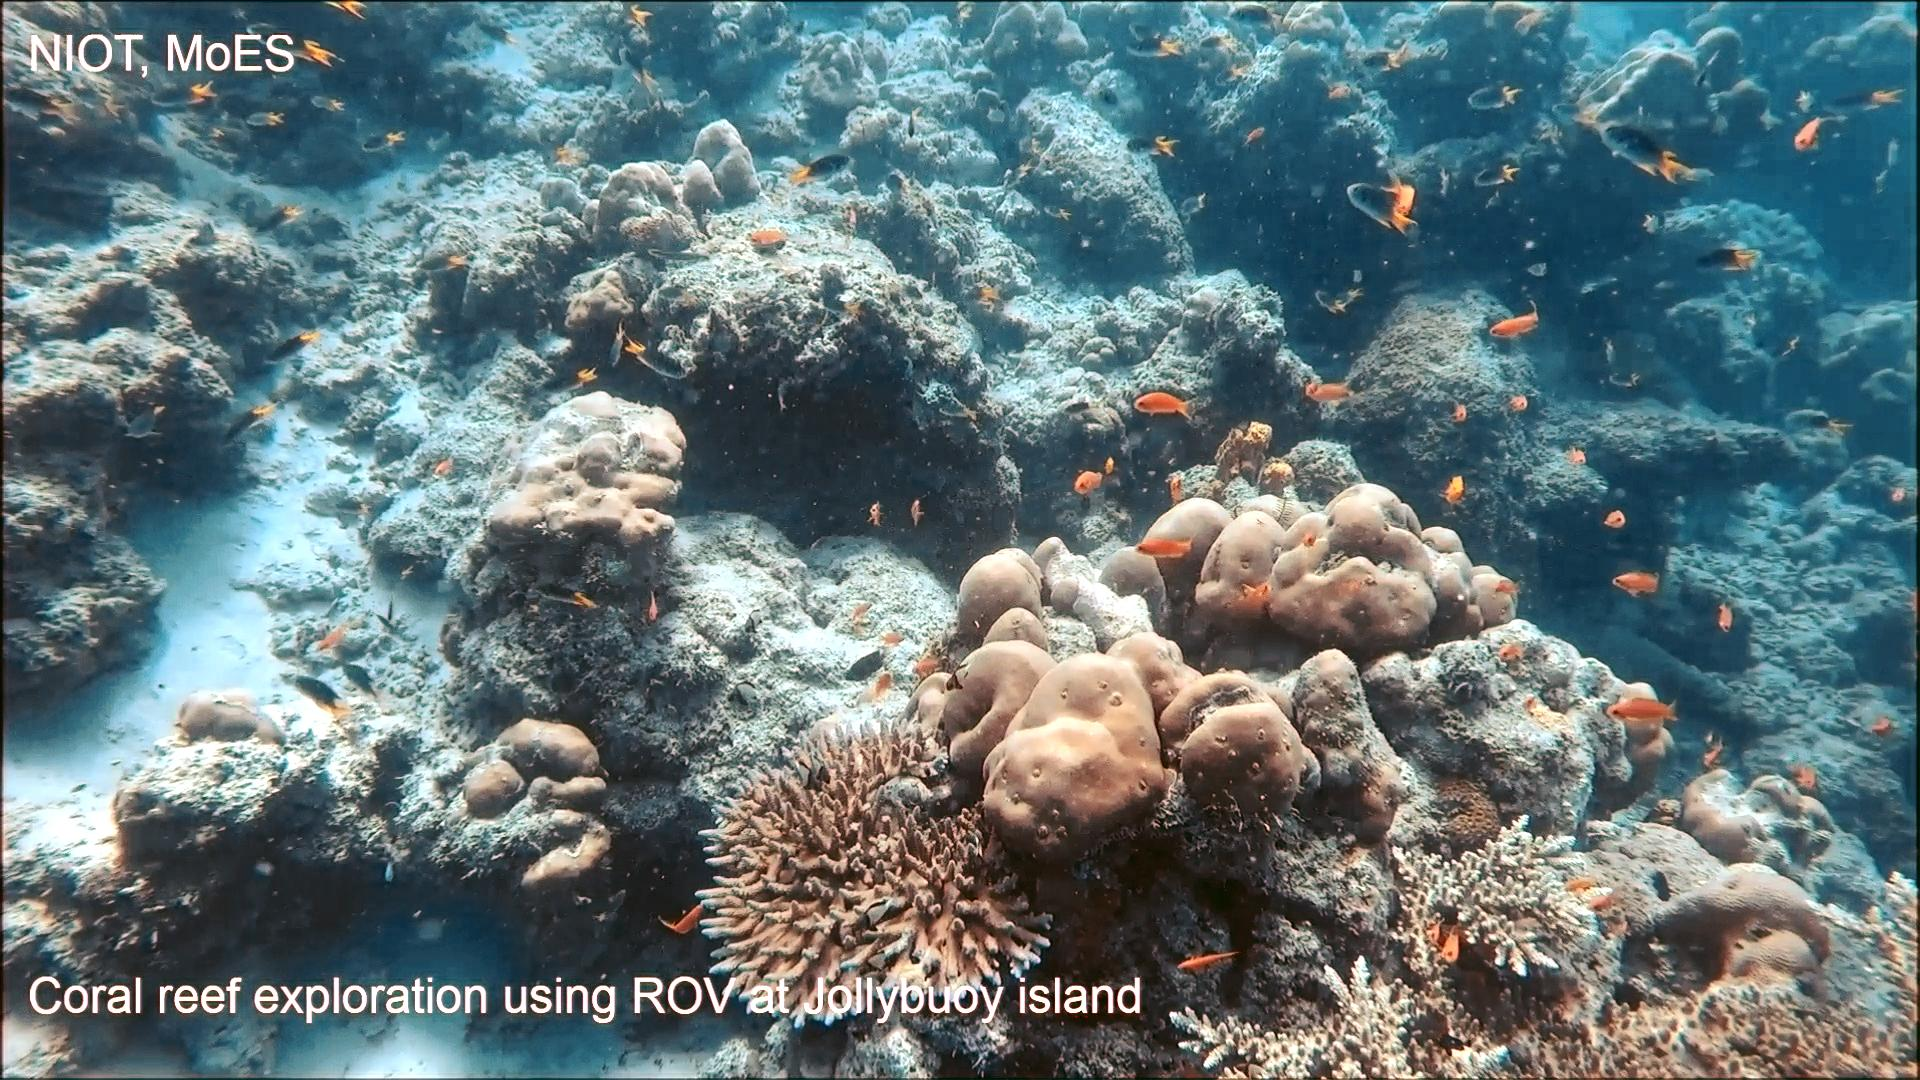Porites-Porites pukoensis: (905, 529, 1309, 874), (1135, 467, 1527, 649)
